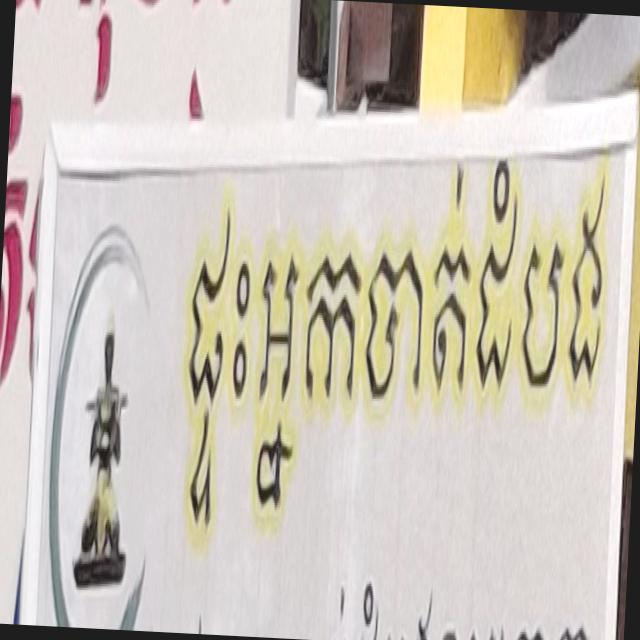Yolov11kh: (162, 132, 625, 615)
